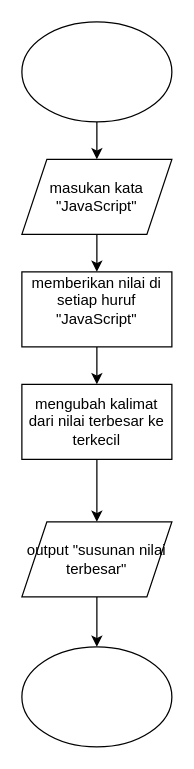
This 194x769 diagram has some shape labels left out. The shapes that lost their labels are listed below. From the top down, each one's centre as x and y in pixels, then its label:
At point (96, 71): "start".
At point (96, 696): "end".
